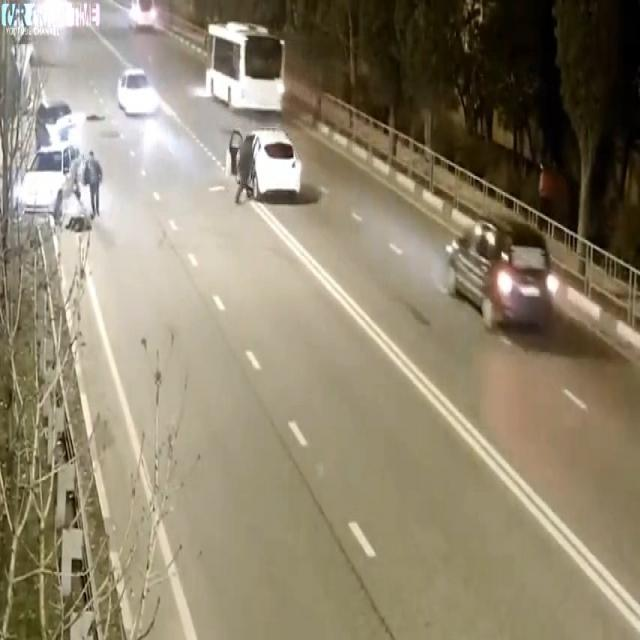Accident: (20, 69, 106, 284)
